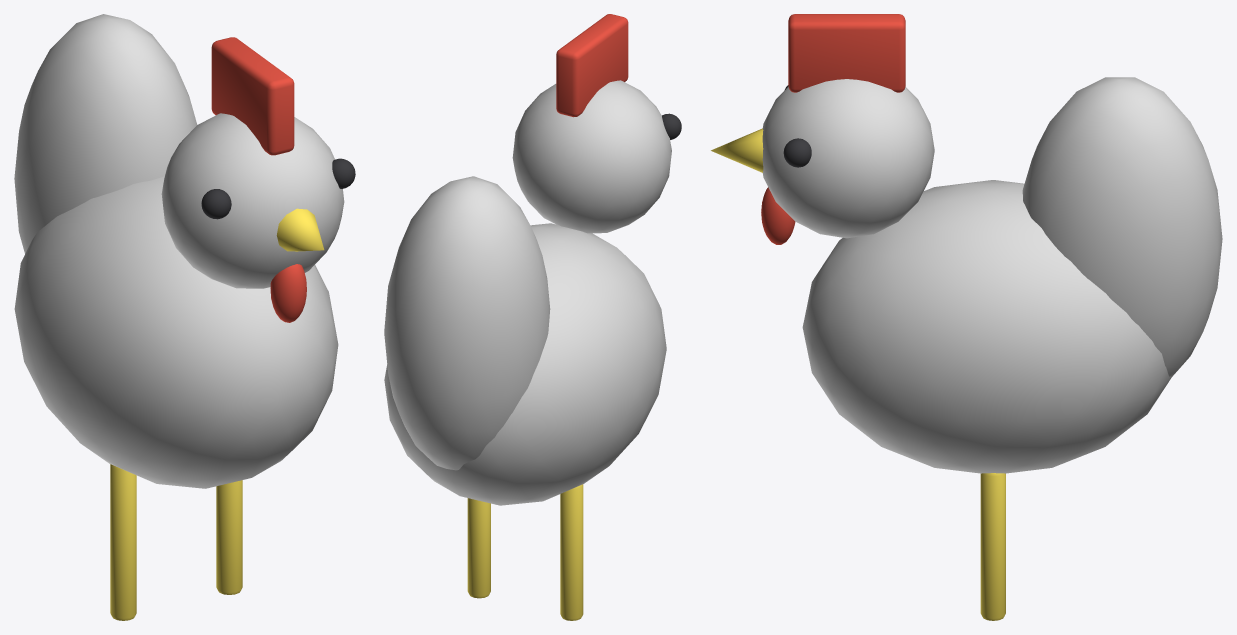
The model's file is niwatori.glb.
3 renders of one model, left to right at view 1: azimuth 30°, elevation 25°; view 2: azimuth 150°, elevation 25°; view 3: azimuth 270°, elevation 25°, orthographic. The views are drawn at different scales.
Parts seen in each view (by area): view 1: niwatori; view 2: niwatori; view 3: niwatori.
Part boxes in pixels (x1,y1,x2,y2): niwatori: (14,14,355,620); niwatori: (384,14,681,620); niwatori: (711,14,1222,620).
Size of the model in its own units: 0.289 by 0.65 by 0.525.
